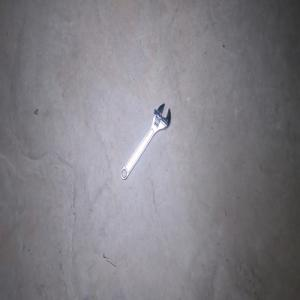Wrench: (120, 103, 170, 179)
